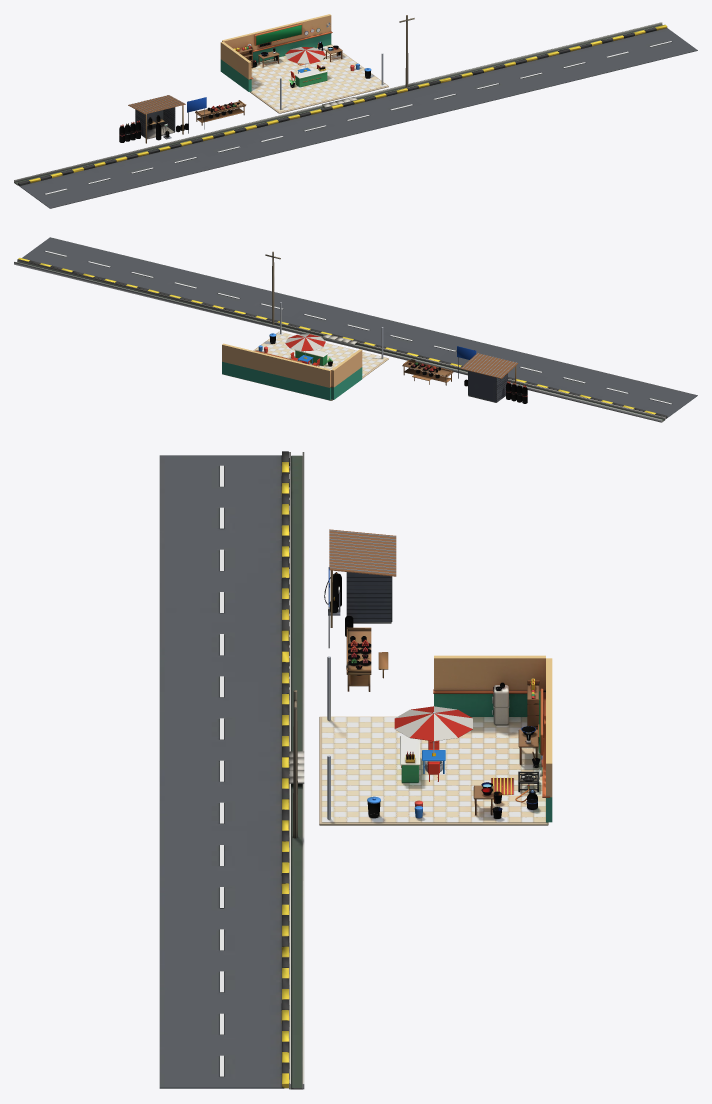
The model's file is buka_set.glb.
3 renders of one model, top to bottom at view 1: azimuth 30°, elevation 25°; view 2: azimuth 150°, elevation 25°; view 3: azimuth 270°, elevation 25°, orthographic. The views are drawn at different scales.
Parts seen in each view (by area): view 1: bake_out, bake_in, gas_roof, umbrella, sign; view 2: bake_out, bake_in, gas_roof, umbrella; view 3: bake_out, bake_in, gas_roof, umbrella.
Part boxes in pixels (x1,y1,x2,y2): bake_out: [14, 15, 697, 208]; bake_in: [220, 14, 388, 113]; gas_roof: [128, 95, 185, 114]; umbrella: [285, 47, 325, 70]; sign: [256, 25, 301, 45]; bake_out: [14, 237, 697, 422]; bake_in: [222, 302, 388, 400]; gas_roof: [460, 353, 518, 378]; umbrella: [285, 334, 325, 357]; bake_out: [159, 451, 392, 1089]; bake_in: [319, 655, 552, 825]; gas_roof: [329, 529, 396, 576]; umbrella: [394, 706, 472, 753].
Bounding box in the file's own units: 60 × 7.18 × 15.75.
Materials: 49 (6 with a texture image).
